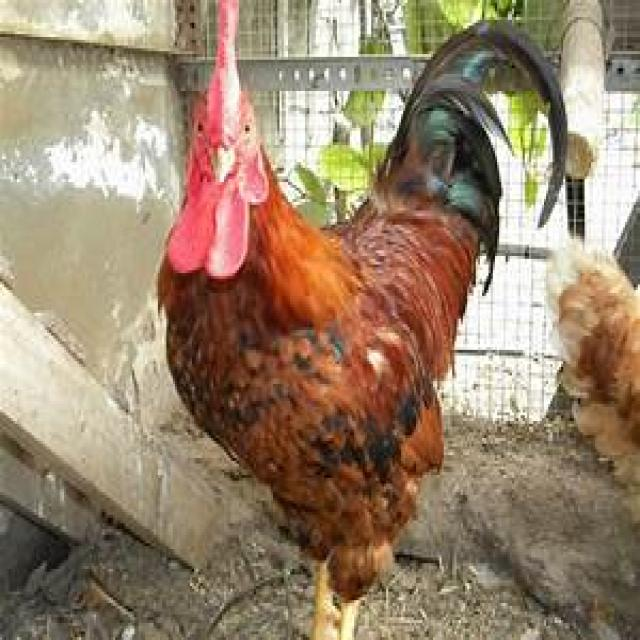hen: (154, 0, 503, 640)
